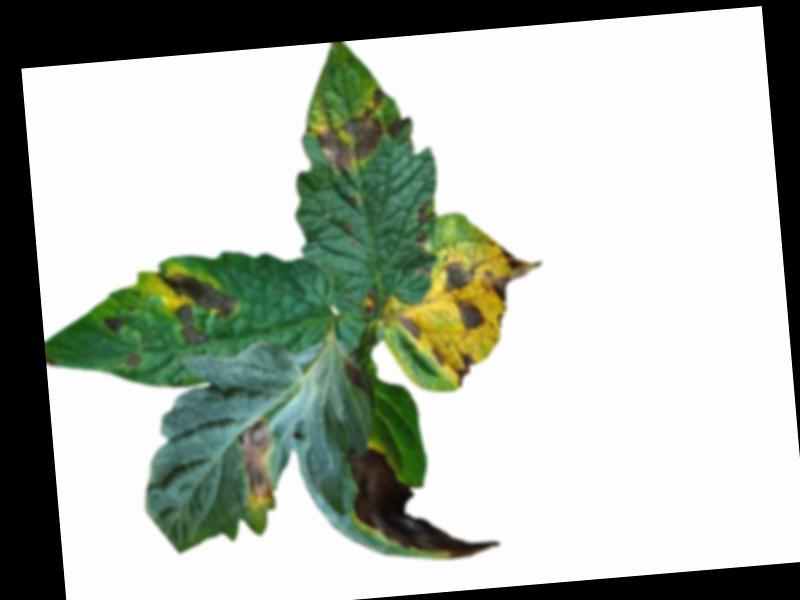Early_blight: (348, 435, 501, 567), (312, 86, 391, 179), (156, 265, 242, 350), (479, 243, 551, 305), (237, 417, 280, 510), (440, 256, 477, 293), (452, 296, 487, 332), (414, 196, 437, 247), (451, 351, 477, 389), (386, 113, 411, 141), (399, 317, 422, 343), (428, 345, 448, 370), (103, 315, 123, 336), (364, 293, 377, 316), (125, 354, 142, 371)
